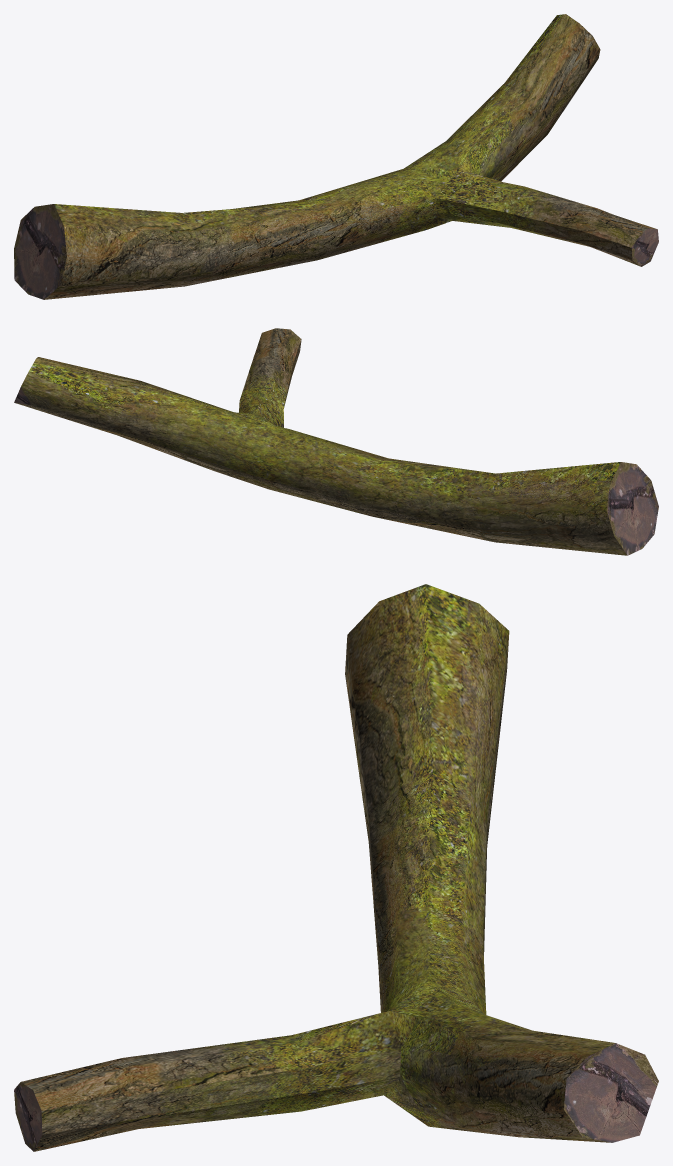
The model's file is TroncoRio03.FBX.
3 renders of one model, top to bottom at view 1: azimuth 30°, elevation 25°; view 2: azimuth 150°, elevation 25°; view 3: azimuth 270°, elevation 25°, orthographic. The views are drawn at different scales.
Parts seen in each view (by area): view 1: Cylinder003; view 2: Cylinder003; view 3: Cylinder003.
Part boxes in pixels (x1,y1,x2,y2): Cylinder003: (14, 14, 658, 299); Cylinder003: (14, 328, 658, 555); Cylinder003: (14, 584, 658, 1151).
Bounding box in the file's own units: 784 × 160 × 412.
